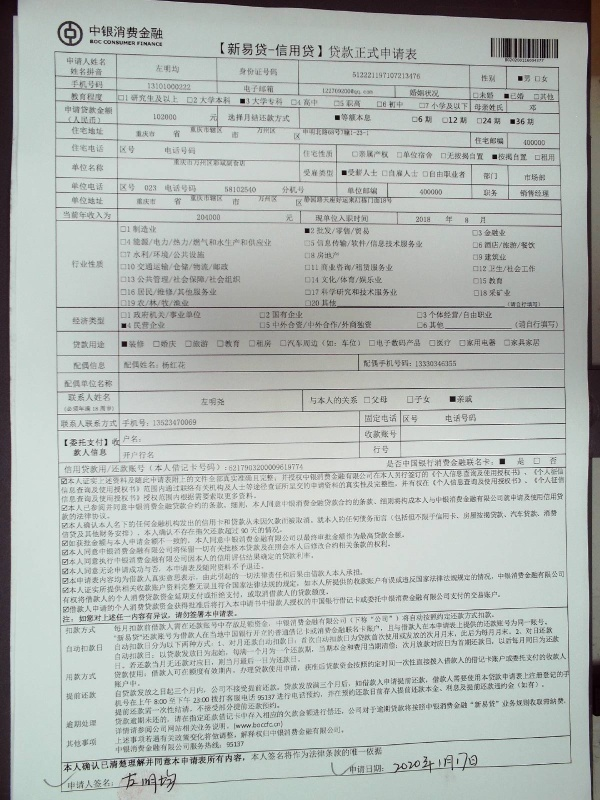text: (113, 695, 128, 727), (129, 695, 144, 727), (145, 695, 160, 727), (161, 695, 176, 727), (177, 695, 192, 727), (193, 695, 208, 727), (209, 695, 224, 727), (225, 695, 240, 727), (241, 695, 256, 727), (257, 695, 272, 727), (273, 695, 288, 727), (289, 695, 304, 727), (305, 695, 320, 727), (321, 695, 336, 727), (337, 695, 352, 727), (353, 695, 368, 727), (369, 695, 384, 727), (385, 695, 400, 727), (401, 695, 416, 727), (417, 695, 432, 727), (433, 695, 448, 727), (449, 695, 464, 727), (465, 695, 480, 727), (481, 695, 496, 727), (497, 695, 512, 727), (513, 695, 528, 727), (529, 695, 544, 727), (545, 695, 560, 727), (129, 669, 144, 700), (145, 669, 160, 700), (161, 669, 176, 700), (177, 669, 192, 700), (193, 669, 208, 700), (209, 669, 224, 700), (225, 669, 240, 700), (241, 669, 256, 700), (257, 669, 272, 700), (273, 669, 288, 700), (289, 669, 304, 700), (305, 669, 320, 700), (321, 669, 336, 700), (337, 669, 352, 700), (353, 669, 368, 700), (369, 669, 384, 700), (385, 669, 400, 700), (401, 669, 416, 700), (417, 669, 432, 700), (433, 669, 448, 700), (449, 669, 464, 700), (465, 669, 480, 700), (481, 669, 496, 700), (497, 669, 512, 700), (513, 669, 528, 700), (529, 669, 544, 700), (545, 669, 560, 700), (369, 746, 385, 775), (113, 651, 128, 681), (129, 651, 144, 681), (145, 651, 160, 681), (161, 651, 176, 681), (177, 651, 192, 681), (193, 651, 208, 681), (209, 651, 224, 681), (225, 651, 240, 681), (241, 651, 256, 681), (257, 651, 272, 681), (273, 651, 288, 681), (289, 651, 304, 681), (305, 651, 320, 681), (321, 651, 336, 681), (337, 651, 352, 681), (353, 651, 368, 681), (369, 651, 384, 681), (385, 651, 400, 681), (401, 651, 416, 681), (417, 651, 432, 681), (433, 651, 448, 681), (449, 651, 464, 681), (465, 651, 480, 681), (481, 651, 496, 681), (497, 651, 512, 681), (513, 651, 528, 681), (529, 651, 544, 681), (545, 651, 560, 681), (65, 746, 80, 775), (81, 746, 96, 775), (97, 746, 112, 775), (113, 746, 128, 775), (129, 746, 144, 775), (145, 746, 160, 775), (161, 746, 176, 775), (177, 746, 192, 775), (193, 746, 208, 775), (209, 746, 224, 775), (225, 746, 240, 775), (241, 746, 256, 775), (257, 746, 272, 775), (273, 746, 288, 775), (289, 746, 304, 775), (305, 746, 320, 775), (321, 746, 336, 775), (337, 746, 352, 775), (353, 746, 368, 775), (65, 569, 80, 597), (81, 569, 96, 597), (97, 569, 112, 597), (113, 569, 128, 597), (129, 569, 144, 597), (145, 569, 160, 597), (161, 569, 176, 597), (177, 569, 192, 597), (193, 569, 208, 597), (209, 569, 224, 597), (225, 569, 240, 597), (241, 569, 256, 597), (257, 569, 272, 597), (273, 569, 288, 597), (289, 569, 304, 597), (305, 569, 320, 597), (321, 569, 336, 597), (337, 569, 352, 597), (353, 569, 368, 597), (369, 569, 384, 597), (385, 569, 400, 597), (401, 569, 416, 597), (417, 569, 432, 597), (433, 569, 448, 597), (449, 569, 464, 597), (465, 569, 480, 597), (481, 569, 496, 597), (497, 569, 512, 597), (513, 569, 528, 597), (529, 569, 544, 597), (545, 569, 560, 597), (113, 625, 128, 653), (129, 625, 144, 653), (145, 625, 160, 653), (161, 625, 176, 653), (177, 625, 192, 653), (193, 625, 208, 653), (209, 625, 224, 653), (225, 625, 240, 653), (241, 625, 256, 653), (257, 625, 272, 653), (273, 625, 288, 653), (289, 625, 304, 653), (305, 625, 320, 653), (321, 625, 336, 653), (337, 625, 352, 653), (353, 625, 368, 653), (369, 625, 384, 653), (385, 625, 400, 653), (401, 625, 416, 653), (417, 625, 432, 653), (433, 625, 448, 653), (449, 625, 464, 653), (465, 625, 480, 653), (481, 625, 496, 653), (497, 625, 512, 653), (513, 625, 528, 653), (529, 625, 544, 653), (545, 625, 560, 653), (129, 680, 144, 708), (145, 680, 160, 708), (161, 680, 176, 708), (177, 680, 192, 708), (193, 680, 208, 708), (209, 680, 224, 708), (225, 680, 240, 708), (241, 680, 256, 708), (257, 680, 272, 708), (273, 680, 288, 708), (289, 680, 304, 708), (305, 680, 320, 708), (321, 680, 336, 708), (337, 680, 352, 708), (353, 680, 368, 708), (369, 680, 384, 708), (385, 680, 400, 708), (401, 680, 416, 708), (417, 680, 432, 708), (433, 680, 448, 708), (449, 680, 464, 708), (465, 680, 480, 708), (481, 680, 496, 708), (497, 680, 512, 708), (513, 680, 528, 708), (529, 680, 544, 708), (129, 767, 144, 795), (145, 767, 160, 795), (161, 767, 176, 795), (113, 617, 128, 644), (129, 617, 144, 644), (145, 617, 160, 644), (161, 617, 176, 644), (177, 617, 192, 644), (193, 617, 208, 644), (209, 617, 224, 644), (225, 617, 240, 644), (241, 617, 256, 644), (257, 617, 272, 644), (273, 617, 288, 644), (289, 617, 304, 644), (305, 617, 320, 644), (321, 617, 336, 644), (337, 617, 352, 644), (353, 617, 368, 644), (369, 617, 384, 644), (385, 617, 400, 644), (401, 617, 416, 644), (417, 617, 432, 644), (433, 617, 448, 644), (449, 617, 464, 644), (465, 617, 480, 644), (481, 617, 496, 644), (497, 617, 512, 644), (513, 617, 528, 644), (529, 617, 544, 644), (113, 635, 128, 662), (129, 635, 144, 662), (145, 635, 160, 662), (161, 635, 176, 662), (177, 635, 192, 662), (193, 635, 208, 662), (209, 635, 224, 662), (225, 635, 240, 662), (241, 635, 256, 662), (257, 635, 272, 662), (273, 635, 288, 662), (289, 635, 304, 662), (305, 635, 320, 662), (321, 635, 336, 662), (337, 635, 352, 662), (353, 635, 368, 662), (369, 635, 384, 662), (385, 635, 400, 662), (401, 635, 416, 662), (417, 635, 432, 662), (433, 635, 448, 662), (449, 635, 464, 662), (465, 635, 480, 662), (481, 635, 496, 662), (497, 635, 512, 662), (513, 635, 528, 662), (529, 635, 544, 662), (545, 635, 560, 662), (115, 669, 128, 700), (114, 680, 128, 708), (65, 590, 80, 616), (81, 590, 96, 616), (97, 590, 112, 616), (113, 590, 128, 616), (129, 590, 144, 616), (145, 590, 160, 616), (161, 590, 176, 616), (177, 590, 192, 616), (193, 590, 208, 616), (209, 590, 224, 616), (225, 590, 240, 616), (241, 590, 256, 616), (257, 590, 272, 616), (273, 590, 288, 616), (289, 590, 304, 616), (305, 590, 320, 616), (321, 590, 336, 616), (337, 590, 352, 616), (353, 590, 368, 616), (369, 590, 384, 616), (385, 590, 400, 616), (401, 590, 416, 616), (417, 590, 432, 616), (433, 590, 448, 616), (449, 590, 464, 616), (465, 590, 480, 616), (481, 590, 496, 616), (401, 750, 416, 776), (417, 750, 432, 776), (433, 750, 448, 776), (449, 750, 464, 776), (465, 750, 480, 776), (225, 39, 240, 63), (241, 39, 256, 63), (257, 39, 272, 63), (273, 39, 288, 63), (289, 39, 304, 63), (305, 39, 320, 63), (321, 39, 336, 63), (337, 39, 352, 63), (353, 39, 368, 63), (369, 39, 384, 63), (385, 39, 400, 63), (401, 39, 416, 63), (65, 508, 80, 531), (81, 508, 96, 531), (97, 508, 112, 531), (113, 508, 128, 531), (129, 508, 144, 531), (145, 508, 160, 531), (161, 508, 176, 531), (177, 508, 192, 531), (193, 508, 208, 531), (209, 508, 224, 531), (225, 508, 240, 531), (241, 508, 256, 531), (257, 508, 272, 531), (273, 508, 288, 531), (289, 508, 304, 531), (305, 508, 320, 531), (321, 508, 336, 531), (337, 508, 352, 531), (353, 508, 368, 531), (369, 508, 384, 531), (385, 508, 400, 531), (401, 508, 416, 531), (417, 508, 432, 531), (433, 508, 448, 531), (449, 508, 464, 531), (465, 508, 480, 531), (481, 508, 496, 531), (497, 508, 512, 531), (513, 508, 528, 531), (529, 508, 544, 531), (545, 508, 560, 531), (113, 611, 128, 634), (129, 611, 144, 634), (145, 611, 160, 634), (161, 611, 176, 634), (177, 611, 192, 634), (193, 611, 208, 634), (209, 611, 224, 634), (225, 611, 240, 634), (241, 611, 256, 634), (257, 611, 272, 634), (273, 611, 288, 634), (289, 611, 304, 634), (305, 611, 320, 634), (321, 611, 336, 634), (337, 611, 352, 634), (353, 611, 368, 634), (369, 611, 384, 634), (385, 611, 400, 634), (401, 611, 416, 634), (417, 611, 432, 634), (433, 611, 448, 634), (449, 611, 464, 634), (465, 611, 480, 634), (481, 611, 496, 634), (561, 669, 572, 700), (65, 475, 80, 496), (81, 475, 96, 496), (97, 475, 112, 496), (113, 475, 128, 496), (129, 475, 144, 496), (145, 475, 160, 496), (161, 475, 176, 496), (177, 475, 192, 496), (193, 475, 208, 496), (209, 475, 224, 496), (225, 475, 240, 496), (241, 475, 256, 496), (257, 475, 272, 496), (273, 475, 288, 496), (289, 475, 304, 496), (305, 475, 320, 496), (321, 475, 336, 496), (337, 475, 352, 496), (353, 475, 368, 496), (369, 475, 384, 496), (385, 475, 400, 496), (401, 475, 416, 496), (417, 475, 432, 496), (433, 475, 448, 496), (449, 475, 464, 496), (465, 475, 480, 496), (481, 475, 496, 496), (497, 475, 512, 496), (513, 475, 528, 496), (529, 475, 544, 496), (545, 475, 560, 496), (65, 492, 80, 513), (81, 492, 96, 513), (97, 492, 112, 513), (113, 492, 128, 513), (129, 492, 144, 513), (145, 492, 160, 513), (161, 492, 176, 513), (177, 492, 192, 513), (193, 492, 208, 513), (209, 492, 224, 513), (225, 492, 240, 513), (241, 492, 256, 513), (257, 492, 272, 513), (273, 492, 288, 513), (289, 492, 304, 513), (305, 492, 320, 513), (321, 492, 336, 513), (337, 492, 352, 513), (353, 492, 368, 513), (369, 492, 384, 513), (385, 492, 400, 513), (401, 492, 416, 513), (417, 492, 432, 513), (433, 492, 448, 513), (449, 492, 464, 513), (465, 492, 480, 513), (481, 492, 496, 513), (497, 492, 512, 513), (513, 492, 528, 513), (529, 492, 544, 513), (545, 492, 560, 513), (65, 566, 80, 587), (81, 566, 96, 587), (97, 566, 112, 587), (113, 566, 128, 587), (129, 566, 144, 587), (145, 566, 160, 587), (161, 566, 176, 587), (177, 566, 192, 587), (193, 566, 208, 587), (209, 566, 224, 587), (225, 566, 240, 587), (241, 566, 256, 587), (257, 566, 272, 587), (273, 566, 288, 587), (289, 566, 304, 587), (305, 566, 320, 587), (321, 566, 336, 587), (337, 566, 352, 587), (353, 566, 368, 587), (129, 725, 144, 746), (145, 725, 160, 746), (161, 725, 176, 746), (177, 725, 192, 746), (193, 725, 208, 746), (209, 725, 224, 746), (225, 725, 240, 746), (241, 725, 256, 746), (257, 725, 272, 746), (273, 725, 288, 746), (289, 725, 304, 746), (305, 725, 320, 746), (321, 725, 336, 746), (65, 467, 80, 487), (81, 467, 96, 487), (97, 467, 112, 487), (113, 467, 128, 487), (129, 467, 144, 487), (145, 467, 160, 487), (161, 467, 176, 487), (177, 467, 192, 487), (193, 467, 208, 487), (209, 467, 224, 487), (225, 467, 240, 487), (241, 467, 256, 487), (257, 467, 272, 487), (273, 467, 288, 487), (289, 467, 304, 487), (305, 467, 320, 487), (321, 467, 336, 487), (337, 467, 352, 487), (353, 467, 368, 487), (369, 467, 384, 487), (385, 467, 400, 487), (401, 467, 416, 487), (417, 467, 432, 487), (433, 467, 448, 487), (449, 467, 464, 487), (465, 467, 480, 487), (481, 467, 496, 487), (497, 467, 512, 487), (513, 467, 528, 487), (529, 467, 544, 487), (545, 467, 560, 487), (561, 651, 571, 681), (114, 725, 128, 746), (97, 23, 112, 42), (113, 23, 128, 42), (129, 23, 144, 42), (145, 23, 160, 42), (129, 93, 144, 112), (145, 93, 160, 112), (161, 93, 176, 112), (177, 93, 192, 112), (193, 93, 208, 112), (209, 93, 224, 112), (225, 93, 240, 112), (241, 93, 256, 112), (257, 93, 272, 112), (273, 93, 288, 112), (289, 93, 304, 112), (305, 93, 320, 112), (321, 93, 336, 112), (337, 93, 352, 112), (353, 93, 368, 112), (369, 93, 384, 112), (385, 93, 400, 112), (401, 93, 416, 112), (417, 93, 432, 112), (433, 93, 448, 112), (449, 93, 464, 112), (65, 530, 80, 549), (81, 530, 96, 549), (97, 530, 112, 549), (113, 530, 128, 549), (129, 530, 144, 549), (145, 530, 160, 549), (161, 530, 176, 549), (177, 530, 192, 549), (193, 530, 208, 549), (209, 530, 224, 549), (225, 530, 240, 549), (241, 530, 256, 549), (257, 530, 272, 549), (273, 530, 288, 549), (289, 530, 304, 549), (305, 530, 320, 549), (321, 530, 336, 549), (337, 530, 352, 549), (353, 530, 368, 549), (369, 530, 384, 549), (385, 530, 400, 549), (65, 539, 80, 558), (81, 539, 96, 558), (97, 539, 112, 558), (113, 539, 128, 558), (129, 539, 144, 558), (145, 539, 160, 558), (161, 539, 176, 558), (177, 539, 192, 558), (193, 539, 208, 558), (209, 539, 224, 558), (225, 539, 240, 558), (241, 539, 256, 558), (257, 539, 272, 558), (273, 539, 288, 558), (289, 539, 304, 558), (305, 539, 320, 558), (321, 539, 336, 558), (337, 539, 352, 558), (353, 539, 368, 558), (369, 539, 384, 558), (65, 587, 80, 606), (81, 587, 96, 606), (97, 587, 112, 606), (113, 587, 128, 606), (129, 587, 144, 606), (145, 587, 160, 606), (161, 587, 176, 606), (177, 587, 192, 606), (193, 587, 208, 606), (209, 587, 224, 606), (225, 587, 240, 606), (241, 587, 256, 606), (257, 587, 272, 606), (273, 587, 288, 606), (289, 587, 304, 606), (305, 587, 320, 606), (113, 700, 128, 719), (129, 700, 144, 719), (145, 700, 160, 719), (161, 700, 176, 719), (177, 700, 192, 719), (193, 700, 208, 719), (209, 700, 224, 719), (225, 700, 240, 719), (241, 700, 256, 719), (257, 700, 272, 719), (225, 608, 241, 625), (113, 719, 128, 737), (129, 719, 144, 737), (145, 719, 160, 737), (161, 719, 176, 737), (177, 719, 192, 737), (193, 719, 208, 737), (209, 719, 224, 737), (225, 719, 240, 737), (241, 719, 256, 737), (257, 719, 272, 737), (273, 719, 288, 737), (113, 738, 128, 756), (129, 738, 144, 756), (145, 738, 160, 756), (161, 738, 176, 756), (177, 738, 192, 756), (193, 738, 208, 756), (209, 738, 224, 756), (225, 738, 240, 756), (81, 776, 96, 794), (97, 776, 112, 794), (561, 695, 569, 727), (65, 551, 80, 568), (81, 551, 96, 568), (97, 551, 112, 568), (113, 551, 128, 568), (129, 551, 144, 568), (145, 551, 160, 568), (161, 551, 176, 568), (177, 551, 192, 568), (193, 551, 208, 568), (209, 551, 224, 568), (225, 551, 240, 568), (241, 551, 256, 568), (257, 551, 272, 568), (273, 551, 288, 568), (289, 551, 304, 568), (65, 608, 80, 625), (81, 608, 96, 625), (97, 608, 112, 625), (113, 608, 128, 625), (129, 608, 144, 625), (145, 608, 160, 625), (161, 608, 176, 625), (177, 608, 192, 625), (193, 608, 208, 625), (209, 608, 224, 625), (113, 654, 128, 671), (129, 654, 144, 671), (145, 654, 160, 671), (161, 654, 176, 671), (177, 654, 192, 671), (193, 654, 208, 671), (209, 654, 224, 671), (225, 654, 240, 671), (241, 654, 256, 671), (257, 654, 272, 671), (273, 654, 288, 671), (289, 654, 304, 671), (337, 725, 349, 746), (66, 776, 80, 794), (321, 587, 334, 606), (273, 700, 286, 719), (545, 456, 561, 471), (65, 562, 80, 578), (81, 562, 96, 578), (97, 562, 112, 578), (113, 562, 128, 578), (129, 562, 144, 578), (145, 562, 160, 578), (161, 562, 176, 578), (177, 562, 192, 578), (193, 562, 208, 578), (209, 562, 224, 578), (225, 562, 240, 578), (241, 562, 256, 578), (353, 762, 368, 778), (369, 762, 384, 778), (305, 551, 319, 568), (391, 750, 400, 776), (353, 149, 368, 164), (369, 149, 384, 164), (385, 149, 400, 164), (401, 149, 416, 164), (417, 149, 432, 164), (433, 149, 448, 164), (449, 149, 464, 164), (465, 149, 480, 164), (481, 149, 496, 164), (497, 149, 512, 164), (513, 149, 528, 164), (529, 149, 544, 164), (129, 235, 144, 250), (145, 235, 160, 250), (161, 235, 176, 250), (177, 235, 192, 250), (193, 235, 208, 250), (209, 235, 224, 250), (225, 235, 240, 250), (241, 235, 256, 250), (257, 235, 272, 250), (385, 456, 400, 471), (401, 456, 416, 471), (417, 456, 432, 471), (433, 456, 448, 471), (449, 456, 464, 471), (465, 456, 480, 471), (481, 456, 496, 471), (497, 456, 512, 471), (513, 456, 528, 471), (529, 456, 544, 471), (65, 525, 80, 540), (81, 525, 96, 540), (97, 525, 112, 540), (113, 525, 128, 540), (129, 525, 144, 540), (145, 525, 160, 540), (161, 525, 176, 540), (177, 525, 192, 540), (193, 525, 208, 540), (209, 525, 224, 540), (225, 525, 240, 540), (241, 525, 256, 540), (257, 525, 272, 540), (81, 737, 96, 752), (120, 767, 128, 795), (545, 617, 553, 644), (161, 62, 176, 76), (81, 77, 96, 91), (417, 113, 432, 127), (433, 113, 448, 127), (449, 113, 464, 127), (465, 113, 480, 127), (481, 113, 496, 127), (497, 113, 512, 127), (513, 113, 528, 127), (545, 149, 559, 164), (353, 167, 368, 181), (369, 167, 384, 181), (385, 167, 400, 181), (401, 167, 416, 181), (417, 167, 432, 181), (433, 167, 448, 181), (449, 167, 464, 181), (305, 237, 320, 251), (321, 237, 336, 251), (337, 237, 352, 251), (353, 237, 368, 251), (369, 237, 384, 251), (385, 237, 400, 251), (401, 237, 416, 251), (369, 357, 384, 371), (385, 357, 400, 371), (401, 357, 416, 371), (417, 357, 432, 371), (433, 357, 448, 371), (321, 393, 336, 407), (337, 393, 352, 407), (353, 393, 368, 407), (369, 393, 384, 407), (385, 393, 400, 407), (401, 393, 416, 407), (417, 393, 432, 407), (433, 393, 448, 407), (449, 393, 464, 407), (65, 491, 80, 505), (81, 491, 96, 505), (97, 491, 112, 505), (113, 491, 128, 505), (129, 491, 144, 505), (145, 491, 160, 505), (161, 491, 176, 505), (177, 491, 192, 505), (193, 491, 208, 505), (209, 491, 224, 505), (225, 491, 240, 505), (241, 491, 256, 505), (81, 642, 96, 656), (66, 737, 80, 752), (117, 93, 128, 112), (257, 562, 270, 578), (561, 569, 568, 597), (66, 642, 80, 656), (97, 37, 112, 50), (113, 37, 128, 50), (129, 37, 144, 50), (145, 37, 160, 50), (81, 55, 96, 68), (81, 65, 96, 78), (161, 81, 176, 94), (177, 81, 192, 94), (417, 87, 432, 100), (241, 112, 256, 125), (257, 112, 272, 125), (273, 112, 288, 125), (81, 162, 96, 175), (177, 156, 192, 169), (193, 156, 208, 169), (209, 156, 224, 169), (225, 156, 240, 169), (129, 181, 144, 194), (145, 181, 160, 194), (161, 181, 176, 194), (177, 181, 192, 194), (321, 212, 336, 225), (337, 212, 352, 225), (353, 212, 368, 225), (129, 274, 144, 287), (145, 274, 160, 287), (161, 274, 176, 287), (177, 274, 192, 287), (193, 274, 208, 287), (209, 274, 224, 287), (225, 274, 240, 287), (305, 262, 320, 275), (321, 262, 336, 275), (337, 262, 352, 275), (353, 262, 368, 275), (369, 262, 384, 275), (481, 239, 496, 252), (497, 239, 512, 252), (513, 239, 528, 252), (129, 319, 144, 332), (145, 319, 160, 332), (273, 319, 288, 332), (289, 319, 304, 332), (305, 319, 320, 332), (321, 319, 336, 332), (337, 319, 352, 332), (353, 319, 368, 332), (81, 338, 96, 351), (129, 337, 144, 350), (145, 337, 160, 350), (161, 337, 176, 350), (177, 337, 192, 350), (193, 337, 208, 350), (209, 337, 224, 350), (225, 337, 240, 350), (241, 337, 256, 350), (257, 337, 272, 350), (273, 337, 288, 350), (289, 337, 304, 350), (305, 337, 320, 350), (321, 337, 336, 350), (337, 337, 352, 350), (353, 337, 368, 350), (369, 337, 384, 350), (385, 337, 400, 350), (401, 337, 416, 350), (417, 337, 432, 350), (433, 337, 448, 350), (449, 337, 464, 350), (465, 337, 480, 350), (481, 337, 496, 350), (497, 337, 512, 350), (513, 337, 528, 350), (529, 337, 544, 350), (65, 418, 80, 431), (81, 418, 96, 431), (97, 418, 112, 431), (113, 418, 128, 431), (129, 418, 144, 431), (145, 418, 160, 431), (161, 418, 176, 431), (177, 418, 192, 431), (449, 412, 464, 425), (65, 437, 80, 450), (81, 437, 96, 450), (97, 437, 112, 450), (369, 428, 384, 441), (65, 462, 80, 475), (81, 462, 96, 475), (97, 462, 112, 475), (113, 462, 128, 475), (129, 462, 144, 475), (145, 462, 160, 475), (161, 462, 176, 475), (177, 462, 192, 475), (193, 462, 208, 475), (209, 462, 224, 475), (225, 462, 240, 475), (241, 462, 256, 475), (257, 462, 272, 475), (273, 462, 288, 475), (289, 462, 304, 475), (273, 525, 286, 540), (81, 671, 96, 684), (81, 690, 96, 703), (81, 718, 96, 731), (193, 250, 209, 262), (497, 287, 513, 299), (545, 319, 561, 331), (97, 392, 113, 404), (129, 433, 145, 445), (66, 55, 80, 68), (497, 590, 504, 616), (66, 671, 80, 684), (66, 690, 80, 703), (66, 718, 80, 731), (241, 66, 256, 78), (257, 66, 272, 78), (353, 69, 368, 81), (369, 69, 384, 81), (385, 69, 400, 81), (401, 69, 416, 81), (529, 73, 544, 85), (81, 91, 96, 103), (65, 105, 80, 117), (81, 105, 96, 117), (97, 105, 112, 117), (81, 125, 96, 137), (81, 144, 96, 156), (305, 168, 320, 180), (321, 168, 336, 180), (81, 181, 96, 193), (289, 184, 304, 196), (529, 188, 544, 200), (81, 195, 96, 207), (209, 212, 224, 224), (81, 259, 96, 271), (129, 250, 144, 262), (145, 250, 160, 262), (161, 250, 176, 262), (177, 250, 192, 262), (129, 262, 144, 274), (145, 262, 160, 274), (161, 262, 176, 274), (177, 262, 192, 274), (193, 262, 208, 274), (209, 262, 224, 274), (129, 287, 144, 299), (145, 287, 160, 299), (161, 287, 176, 299), (177, 287, 192, 299), (193, 287, 208, 299), (305, 225, 320, 237), (321, 225, 336, 237), (337, 225, 352, 237), (353, 225, 368, 237), (305, 250, 320, 262), (321, 250, 336, 262), (305, 275, 320, 287), (321, 275, 336, 287), (337, 275, 352, 287), (353, 275, 368, 287), (369, 275, 384, 287), (305, 287, 320, 299), (321, 287, 336, 299), (337, 287, 352, 299), (353, 287, 368, 299), (369, 287, 384, 299), (385, 287, 400, 299), (305, 298, 320, 310), (321, 298, 336, 310), (481, 251, 496, 263), (481, 264, 496, 276), (497, 264, 512, 276), (513, 264, 528, 276), (481, 275, 496, 287), (481, 287, 496, 299), (81, 315, 96, 327), (529, 319, 544, 331), (129, 359, 144, 371), (145, 359, 160, 371), (161, 359, 176, 371), (81, 392, 96, 404), (369, 413, 384, 425), (385, 413, 400, 425), (401, 413, 416, 425), (129, 450, 144, 462), (65, 625, 80, 637), (81, 625, 96, 637), (113, 678, 128, 690), (129, 678, 144, 690), (209, 193, 225, 204), (401, 530, 410, 549), (385, 539, 394, 558), (147, 81, 160, 94), (227, 112, 240, 125), (483, 170, 496, 183), (259, 319, 272, 332), (465, 412, 478, 425), (385, 428, 398, 441), (340, 167, 352, 181), (497, 251, 511, 263), (514, 319, 528, 331), (66, 392, 80, 404), (465, 393, 477, 407), (561, 475, 569, 496), (545, 680, 551, 708), (481, 91, 496, 102), (497, 91, 512, 102), (513, 91, 528, 102), (529, 91, 544, 102), (481, 101, 496, 112), (81, 114, 96, 125), (209, 112, 224, 123), (337, 112, 352, 123), (353, 112, 368, 123), (257, 125, 272, 136), (305, 127, 320, 138), (321, 127, 336, 138), (337, 127, 352, 138), (353, 127, 368, 138), (481, 136, 496, 147), (177, 145, 192, 156), (305, 149, 320, 160), (321, 149, 336, 160), (529, 172, 544, 183), (225, 185, 240, 196), (241, 185, 256, 196), (193, 193, 208, 204), (65, 210, 80, 221), (81, 210, 96, 221), (97, 210, 112, 221), (417, 214, 432, 225), (433, 214, 448, 225), (449, 214, 464, 225), (465, 214, 480, 225), (129, 224, 144, 235), (145, 224, 160, 235), (129, 298, 144, 309), (145, 298, 160, 309), (161, 298, 176, 309), (177, 298, 192, 309), (481, 228, 496, 239), (129, 310, 144, 321), (145, 310, 160, 321), (161, 310, 176, 321), (177, 310, 192, 321), (273, 309, 288, 320), (289, 309, 304, 320), (417, 310, 432, 321), (433, 310, 448, 321), (449, 310, 464, 321), (465, 310, 480, 321), (481, 310, 496, 321), (417, 320, 432, 331), (81, 360, 96, 371), (65, 379, 80, 390), (81, 379, 96, 390), (97, 379, 112, 390), (209, 396, 224, 407), (81, 447, 96, 458), (65, 512, 80, 523), (81, 512, 96, 523), (97, 512, 112, 523), (241, 738, 250, 756), (97, 55, 109, 68), (68, 65, 80, 78), (195, 212, 208, 224), (209, 287, 222, 299), (385, 262, 397, 275), (258, 194, 272, 205), (258, 309, 272, 320), (433, 320, 447, 331), (449, 357, 460, 371), (309, 393, 320, 407), (88, 23, 96, 42), (481, 73, 496, 83), (257, 84, 272, 94), (321, 87, 336, 97), (337, 87, 352, 97), (353, 87, 368, 97), (161, 112, 176, 122), (193, 125, 208, 135), (209, 125, 224, 135), (353, 186, 368, 196), (145, 197, 160, 207), (305, 195, 320, 205), (321, 195, 336, 205), (337, 195, 352, 205), (353, 195, 368, 205), (369, 195, 384, 205), (118, 235, 128, 250), (513, 300, 528, 310), (529, 300, 544, 310), (65, 405, 80, 415), (81, 405, 96, 415), (97, 405, 112, 415), (516, 73, 528, 85), (97, 125, 109, 137), (145, 450, 157, 462), (372, 444, 384, 456), (163, 145, 176, 156), (419, 187, 432, 198), (433, 187, 446, 198), (497, 228, 510, 239), (529, 239, 540, 252), (97, 338, 108, 351), (97, 447, 110, 458), (97, 77, 107, 91), (529, 113, 539, 127), (145, 129, 159, 139), (482, 188, 496, 198), (417, 237, 427, 251), (177, 767, 182, 795), (513, 56, 528, 65), (529, 56, 544, 65), (529, 139, 544, 148), (465, 93, 472, 112), (68, 114, 80, 125), (293, 131, 304, 143), (117, 250, 128, 262), (529, 264, 540, 276), (497, 275, 508, 287), (97, 315, 108, 327), (193, 310, 205, 321), (97, 360, 109, 371), (177, 359, 188, 371), (243, 84, 256, 94), (433, 87, 443, 100), (118, 274, 128, 287), (71, 77, 80, 91), (561, 492, 567, 513), (545, 91, 556, 102), (481, 214, 492, 225), (117, 298, 128, 309), (219, 39, 224, 63), (417, 39, 422, 63), (70, 91, 80, 103), (529, 103, 541, 113), (97, 144, 107, 156), (129, 144, 139, 156), (97, 181, 107, 193), (369, 186, 381, 196), (118, 287, 128, 299), (561, 467, 567, 487), (97, 65, 106, 78), (71, 162, 80, 175), (97, 162, 106, 175), (119, 181, 128, 194), (71, 338, 80, 351), (113, 437, 122, 450), (60, 569, 64, 597), (97, 642, 105, 656), (497, 136, 507, 147), (385, 195, 396, 205), (97, 91, 106, 103), (71, 125, 80, 137), (119, 144, 128, 156), (71, 181, 80, 193), (71, 195, 80, 207), (97, 195, 106, 207), (289, 212, 298, 224), (71, 259, 80, 271), (97, 259, 106, 271), (119, 262, 128, 274), (225, 262, 234, 274), (471, 251, 480, 263), (471, 275, 480, 287), (71, 315, 80, 327), (408, 87, 416, 100), (241, 156, 249, 169), (193, 181, 201, 194), (472, 239, 480, 252), (120, 319, 128, 332), (60, 590, 64, 616), (497, 101, 506, 112), (119, 224, 128, 235), (471, 228, 480, 239), (119, 310, 128, 321), (199, 396, 208, 407), (177, 62, 184, 76), (273, 66, 281, 78), (545, 73, 553, 85), (72, 144, 80, 156), (280, 184, 288, 196), (520, 188, 528, 200), (545, 188, 553, 200), (177, 196, 185, 208), (472, 264, 480, 276), (472, 287, 480, 299), (120, 450, 128, 462), (161, 23, 166, 42), (60, 508, 64, 531), (89, 37, 96, 50), (369, 319, 376, 332), (121, 337, 128, 350), (135, 129, 144, 139), (135, 197, 144, 207), (295, 198, 304, 208), (472, 91, 480, 102), (273, 194, 281, 205), (72, 360, 80, 371), (72, 447, 80, 458), (154, 62, 160, 76), (417, 69, 424, 81), (410, 113, 416, 127), (337, 250, 344, 262), (121, 433, 128, 445), (60, 475, 64, 496), (60, 566, 64, 587), (561, 635, 564, 662), (369, 87, 377, 97), (232, 130, 240, 140), (60, 467, 64, 487), (161, 37, 167, 50), (161, 319, 167, 332), (193, 418, 199, 431), (97, 114, 104, 125), (60, 530, 64, 549), (60, 539, 64, 558), (504, 56, 512, 65), (177, 129, 185, 138), (232, 197, 240, 206), (385, 444, 391, 456), (113, 776, 117, 794), (153, 112, 160, 122), (363, 357, 368, 371), (59, 491, 64, 505), (497, 611, 500, 634), (60, 551, 64, 568), (474, 101, 480, 112), (474, 136, 480, 147), (193, 145, 199, 156), (315, 212, 320, 225), (60, 562, 64, 578), (61, 492, 64, 513), (369, 225, 374, 237), (123, 359, 128, 371), (417, 413, 422, 425), (60, 525, 64, 540), (62, 746, 64, 775), (61, 587, 64, 606), (465, 167, 469, 181), (257, 491, 261, 505), (369, 112, 374, 123), (273, 125, 278, 136), (523, 172, 528, 183), (522, 139, 528, 148), (289, 112, 293, 125), (172, 156, 176, 169), (60, 418, 64, 431), (364, 428, 368, 441), (97, 690, 101, 703), (481, 750, 483, 776), (305, 654, 308, 671), (273, 84, 278, 94), (347, 186, 352, 196), (507, 300, 512, 310), (337, 298, 341, 310), (364, 413, 368, 425), (349, 762, 352, 778), (385, 762, 388, 778), (97, 737, 100, 752), (369, 127, 373, 138), (545, 172, 549, 183), (60, 512, 64, 523), (497, 188, 501, 198), (113, 405, 117, 415), (497, 170, 500, 183), (369, 212, 372, 225), (241, 274, 244, 287), (445, 412, 448, 425), (545, 56, 549, 65), (172, 129, 176, 138), (305, 184, 308, 196), (173, 196, 176, 208), (285, 212, 288, 224), (97, 625, 100, 637), (145, 678, 148, 690), (62, 608, 64, 625), (333, 112, 336, 123), (257, 185, 260, 196), (113, 379, 116, 390), (225, 396, 228, 407), (497, 73, 500, 83), (350, 149, 352, 164), (273, 235, 275, 250), (302, 237, 304, 251), (545, 139, 548, 148), (305, 462, 307, 475), (97, 671, 99, 684), (97, 718, 99, 731), (113, 105, 115, 117), (302, 250, 304, 262), (401, 287, 403, 299), (561, 508, 562, 531), (190, 193, 192, 204), (193, 298, 195, 309), (369, 566, 370, 587), (177, 112, 179, 122), (190, 125, 192, 135), (225, 125, 227, 135), (289, 719, 290, 737), (193, 81, 194, 94), (303, 262, 304, 275), (239, 66, 240, 78), (351, 69, 352, 81), (303, 168, 304, 180), (303, 225, 304, 237), (303, 275, 304, 287), (385, 275, 386, 287), (303, 298, 304, 310), (303, 127, 304, 138), (303, 149, 304, 160), (223, 185, 224, 196), (63, 210, 64, 221), (113, 210, 114, 221), (415, 214, 416, 225), (305, 309, 306, 320), (63, 379, 64, 390), (113, 512, 114, 523), (241, 130, 242, 140), (305, 198, 306, 208), (303, 195, 304, 205), (545, 300, 546, 310), (63, 405, 64, 415), (241, 197, 242, 206)
